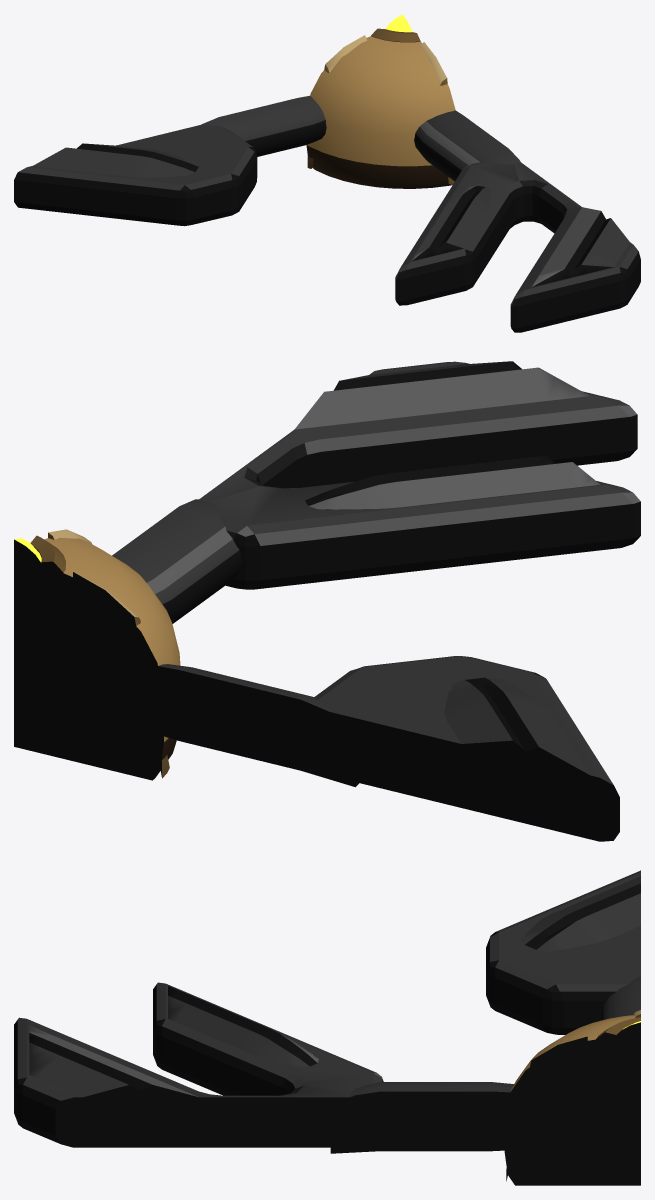
Rendered from spin_claw_127.glb.
3 views of the same model, one above another, from view 1: azimuth 30°, elevation 25°; view 2: azimuth 150°, elevation 25°; view 3: azimuth 270°, elevation 25° (orthographic). The views are drawn at different scales.
Parts seen in each view (by area): view 1: spin_claw_127_arm2_plate, spin_claw_127_hub_dome, spin_claw_127_arm3_plate, spin_claw_127_arm3_rod, spin_claw_127_arm2_rod, spin_claw_127_arm2_ridge0, spin_claw_127_arm3_ridge0, spin_claw_127_arm2_ridge1, spin_claw_127_hub_bezel, spin_claw_127_hub_rib3; view 2: spin_claw_127_arm2_plate, spin_claw_127_arm3_plate, spin_claw_127_hub_dome, spin_claw_127_arm3_rod, spin_claw_127_arm2_ridge0, spin_claw_127_arm3_ridge0, spin_claw_127_arm2_rod, spin_claw_127_arm2_ridge1, spin_claw_127_hub_bezel, spin_claw_127_hub_rib3, spin_claw_127_hub_lens; view 3: spin_claw_127_arm2_plate, spin_claw_127_hub_dome, spin_claw_127_arm2_rod, spin_claw_127_arm3_plate, spin_claw_127_arm2_ridge0, spin_claw_127_arm3_ridge0, spin_claw_127_arm2_ridge1, spin_claw_127_arm3_rod, spin_claw_127_hub_rib2, spin_claw_127_hub_bezel.
Boxes of the visible parts, x1,y1,x2,y2 form: spin_claw_127_arm2_plate: [395, 161, 640, 332]; spin_claw_127_hub_dome: [306, 36, 455, 188]; spin_claw_127_arm3_plate: [14, 125, 257, 226]; spin_claw_127_arm3_rod: [201, 95, 326, 156]; spin_claw_127_arm2_rod: [414, 110, 520, 181]; spin_claw_127_arm2_ridge0: [532, 207, 629, 286]; spin_claw_127_arm3_ridge0: [33, 143, 198, 177]; spin_claw_127_arm2_ridge1: [412, 186, 490, 261]; spin_claw_127_hub_bezel: [371, 28, 420, 42]; spin_claw_127_hub_rib3: [307, 35, 366, 168]; spin_claw_127_arm2_plate: [199, 361, 640, 589]; spin_claw_127_arm3_plate: [294, 656, 619, 841]; spin_claw_127_hub_dome: [14, 537, 180, 780]; spin_claw_127_arm3_rod: [98, 656, 359, 787]; spin_claw_127_arm2_ridge0: [294, 361, 589, 429]; spin_claw_127_arm3_ridge0: [444, 677, 602, 789]; spin_claw_127_arm2_rod: [112, 499, 242, 623]; spin_claw_127_arm2_ridge1: [305, 455, 599, 509]; spin_claw_127_hub_bezel: [14, 535, 65, 585]; spin_claw_127_hub_rib3: [73, 571, 169, 778]; spin_claw_127_hub_lens: [14, 538, 42, 583]; spin_claw_127_arm2_plate: [14, 982, 386, 1147]; spin_claw_127_hub_dome: [504, 1015, 640, 1185]; spin_claw_127_arm2_rod: [330, 1082, 563, 1153]; spin_claw_127_arm3_plate: [486, 870, 640, 1034]; spin_claw_127_arm2_ridge0: [29, 1025, 210, 1106]; spin_claw_127_arm3_ridge0: [520, 876, 640, 951]; spin_claw_127_arm2_ridge1: [168, 986, 318, 1066]; spin_claw_127_arm3_rod: [601, 976, 640, 1020]; spin_claw_127_hub_rib2: [506, 1036, 587, 1181]; spin_claw_127_hub_bezel: [596, 1017, 640, 1049].
Size of the model in its own units: 15.86 by 5.19 by 18.06.
